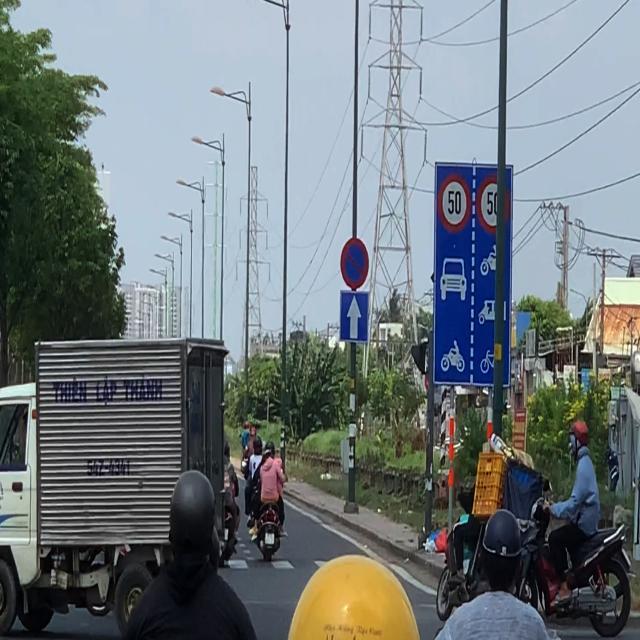Cam do: (340, 237, 369, 289)
Chi dan: (339, 290, 368, 343)
Toc do toi da: (438, 173, 472, 234), (476, 175, 510, 235)
